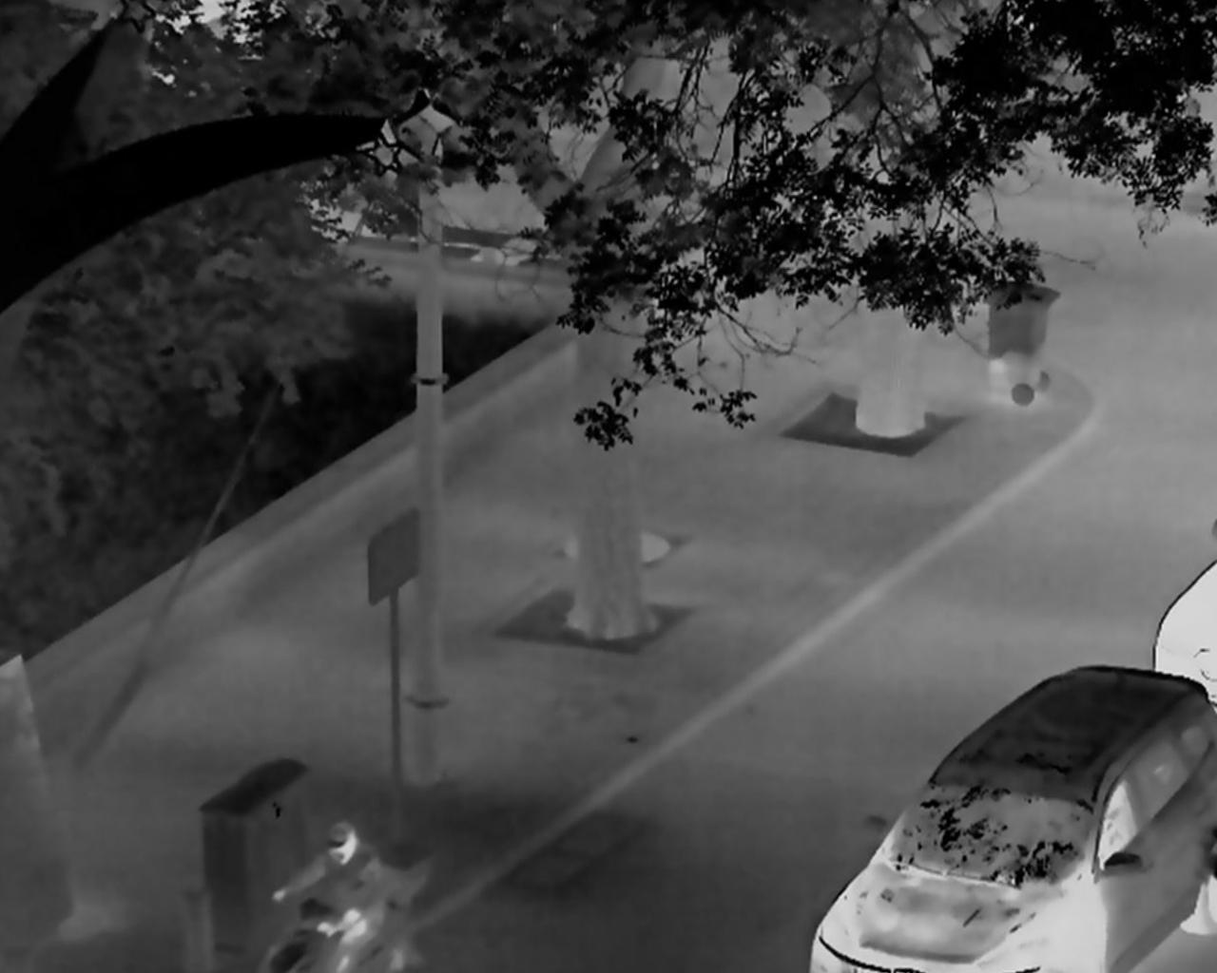person: (271, 818, 388, 972)
